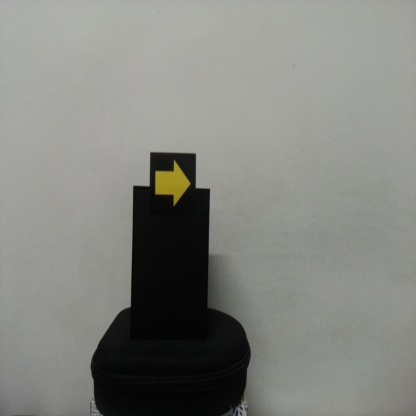id_3: (150, 153, 197, 217)
